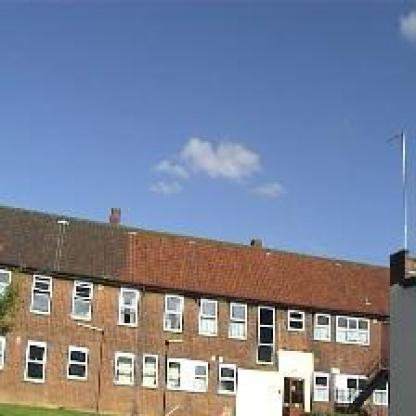other: (227, 338, 314, 408)
